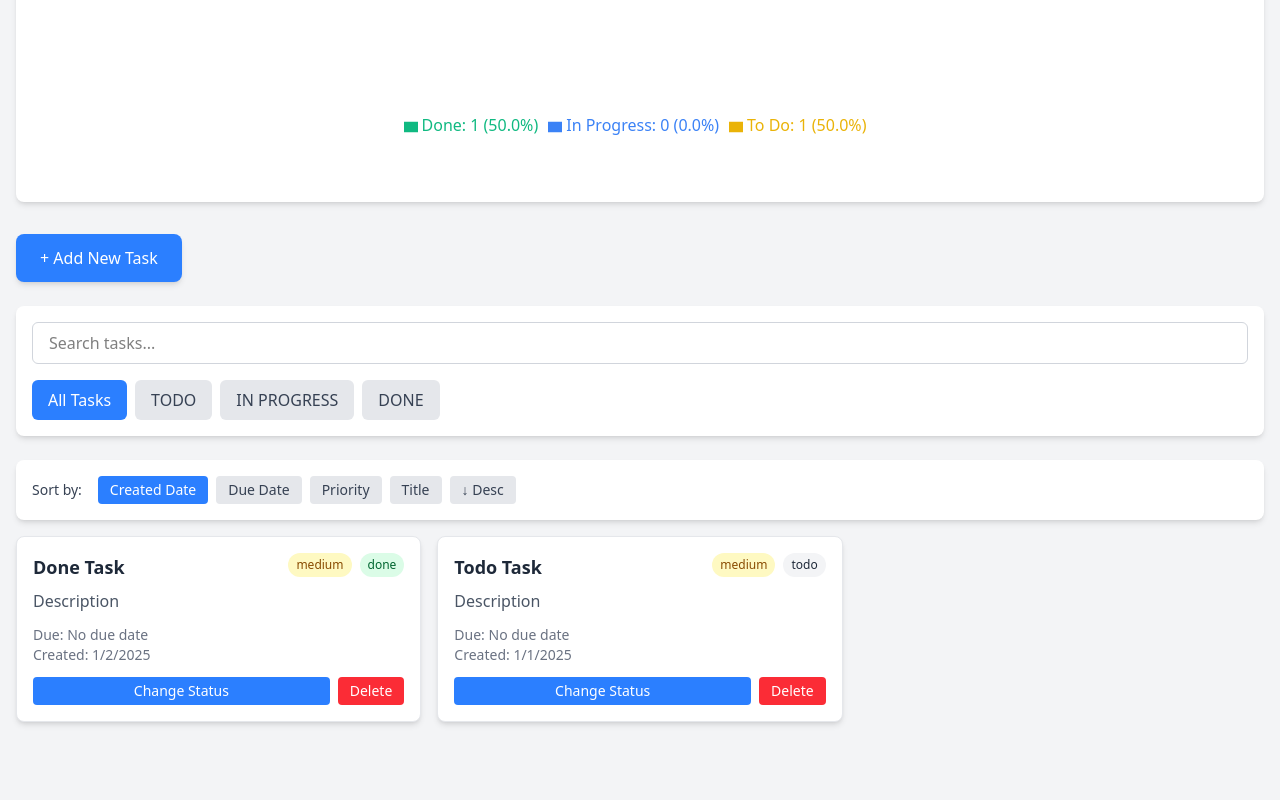
App Integration Tests › Filtering and Searching Flow › should filter tasks by status
(page scrolled)
Filter by "done"
Click the button with aria-label "filter by done": {"x": 401, "y": 400} [362,380,440,420]
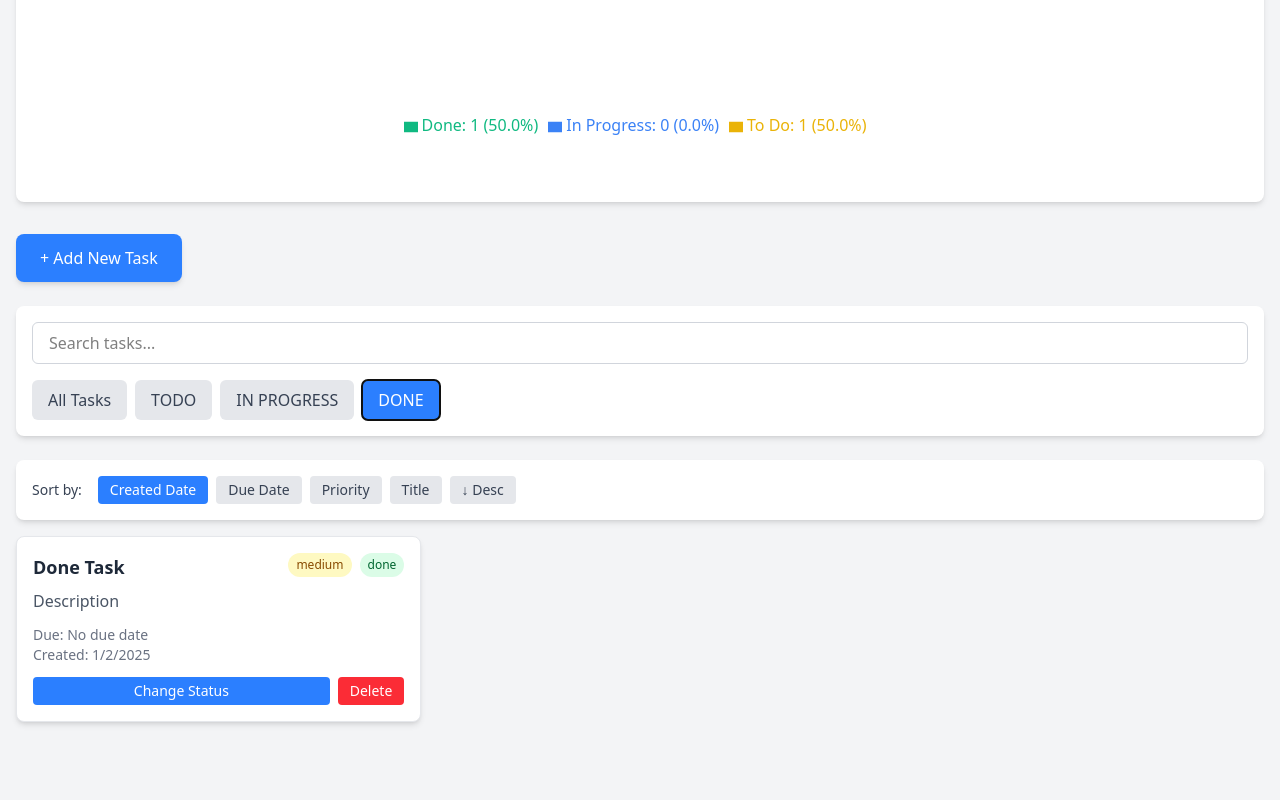
Expected: the heading "Done Task" is shown, [33,553,125,581]
Expected: the heading "Todo Task" is gone
